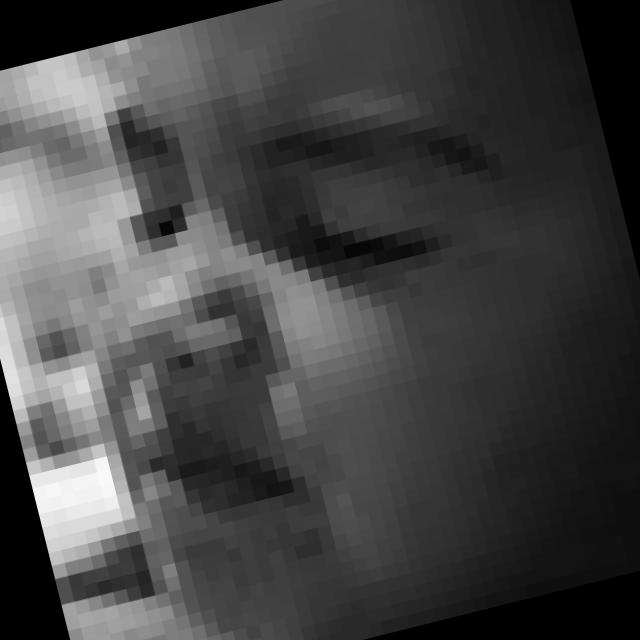disgust: (47, 22, 576, 577)
